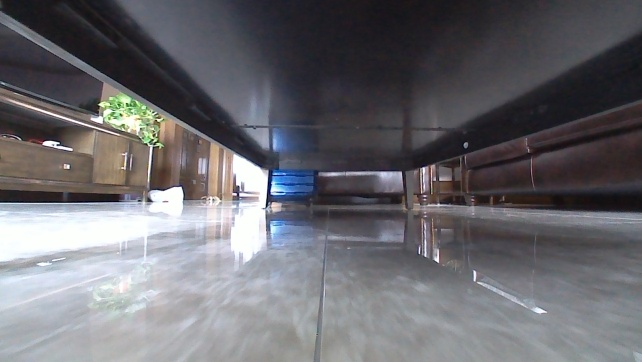TV_stand1: (0, 87, 158, 203)
sofa1: (463, 101, 641, 207), (314, 170, 405, 200)
